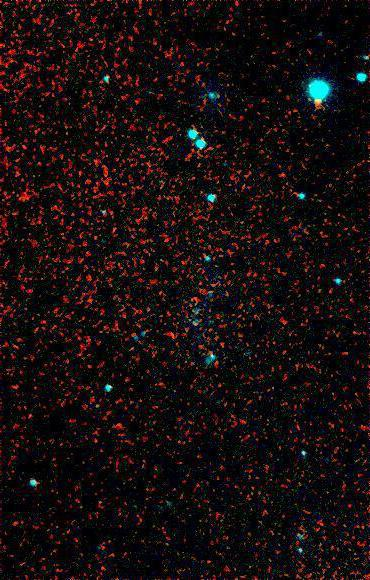star: (303, 84, 333, 114)
